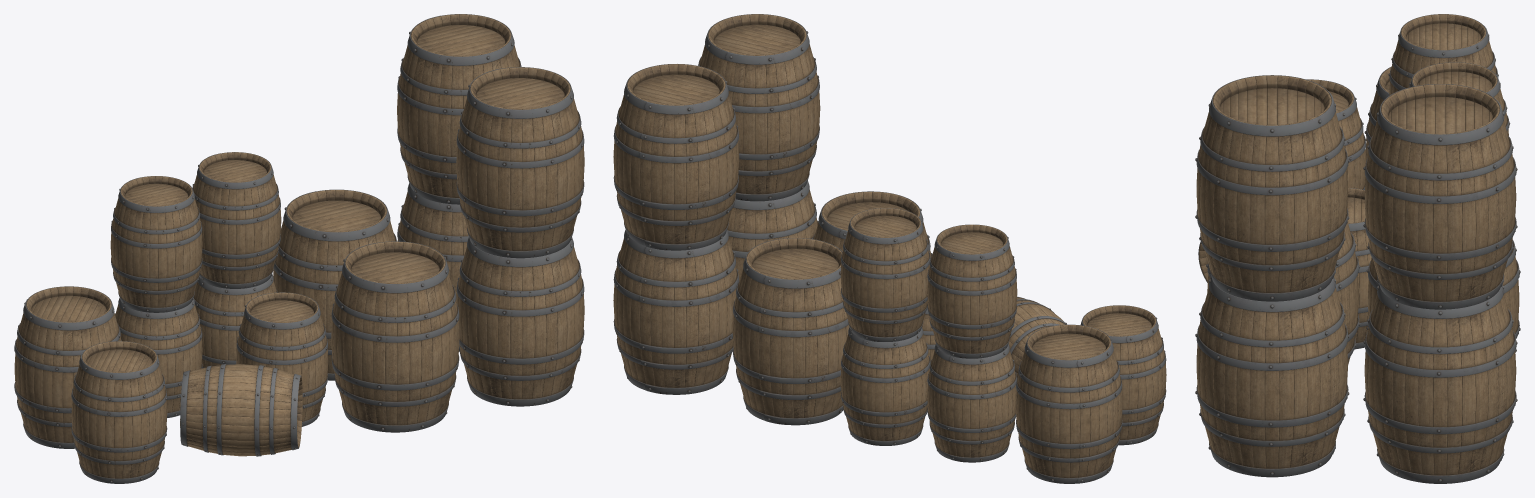
File: barrel.fbx
The picture shows the model from 3 angles, left to right: view 1: azimuth 30°, elevation 25°; view 2: azimuth 150°, elevation 25°; view 3: azimuth 270°, elevation 25°; orthographic projection. The views are drawn at different scales.
Visible parts, largest first — view 1: wooden_barrel.003, wooden_barrel.005, wooden_barrel, wooden_barrel.004, wooden_barrel.013, wooden_barrel.009, wooden_barrel.012, wooden_barrel.011, wooden_barrel.007, wooden_barrel.002, wooden_barrel.010, wooden_barrel.008 (+2 smaller); view 2: wooden_barrel.004, wooden_barrel.002, wooden_barrel.001, wooden_barrel.005, wooden_barrel.012, wooden_barrel.009, wooden_barrel.007, wooden_barrel.008, wooden_barrel.006, wooden_barrel.013, wooden_barrel, wooden_barrel.003 (+1 smaller); view 3: wooden_barrel.005, wooden_barrel.004, wooden_barrel, wooden_barrel.001, wooden_barrel.009, wooden_barrel.013, wooden_barrel.007, wooden_barrel.003, wooden_barrel.010, wooden_barrel.002, wooden_barrel.012.
Boxes of the visible parts, left/top/right/bottom form: wooden_barrel.003: left=331, top=241, right=459, bottom=432; wooden_barrel.005: left=456, top=67, right=584, bottom=258; wooden_barrel: left=456, top=237, right=584, bottom=406; wooden_barrel.004: left=397, top=14, right=521, bottom=204; wooden_barrel.013: left=71, top=341, right=167, bottom=483; wooden_barrel.009: left=110, top=176, right=202, bottom=312; wooden_barrel.012: left=14, top=286, right=121, bottom=448; wooden_barrel.011: left=180, top=364, right=302, bottom=456; wooden_barrel.007: left=192, top=152, right=281, bottom=288; wooden_barrel.002: left=273, top=189, right=396, bottom=380; wooden_barrel.010: left=236, top=292, right=328, bottom=426; wooden_barrel.008: left=115, top=298, right=202, bottom=417; wooden_barrel.004: left=613, top=64, right=739, bottom=250; wooden_barrel.002: left=732, top=238, right=849, bottom=425; wooden_barrel.001: left=613, top=229, right=738, bottom=394; wooden_barrel.005: left=698, top=14, right=820, bottom=201; wooden_barrel.012: left=1015, top=324, right=1122, bottom=483; wooden_barrel.009: left=927, top=224, right=1017, bottom=358; wooden_barrel.007: left=840, top=208, right=930, bottom=341; wooden_barrel.008: left=927, top=344, right=1016, bottom=462; wooden_barrel.006: left=840, top=327, right=930, bottom=445; wooden_barrel.013: left=1080, top=305, right=1166, bottom=445; wooden_barrel: left=727, top=180, right=818, bottom=280; wooden_barrel.003: left=812, top=191, right=932, bottom=257; wooden_barrel.005: left=1195, top=75, right=1349, bottom=301; wooden_barrel.004: left=1363, top=84, right=1517, bottom=309; wooden_barrel: left=1195, top=276, right=1349, bottom=477; wooden_barrel.001: left=1363, top=284, right=1517, bottom=483; wooden_barrel.009: left=1388, top=14, right=1498, bottom=95; wooden_barrel.013: left=1306, top=79, right=1366, bottom=189; wooden_barrel.007: left=1409, top=62, right=1510, bottom=135; wooden_barrel.003: left=1206, top=222, right=1360, bottom=364; wooden_barrel.010: left=1347, top=188, right=1371, bottom=349; wooden_barrel.002: left=1366, top=239, right=1520, bottom=352; wooden_barrel.012: left=1364, top=66, right=1391, bottom=161.
Size of the model in its own units: 3.42 by 1.94 by 1.63.
1 material, 1 textured.
